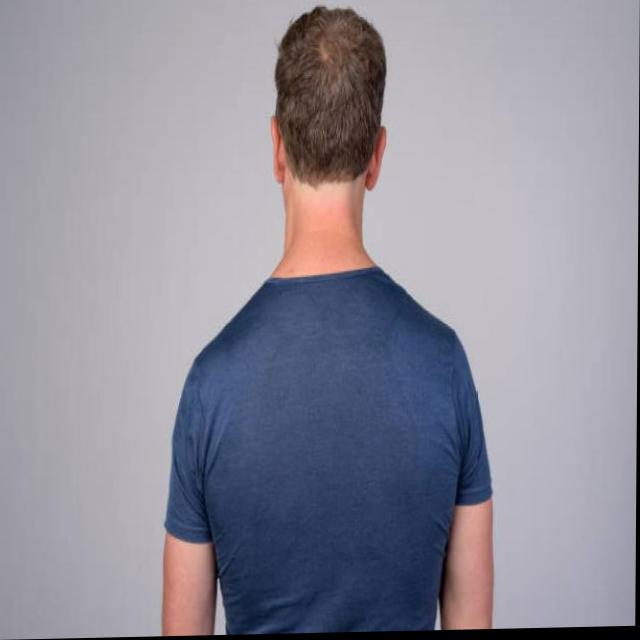no helmet: (243, 0, 401, 281)
